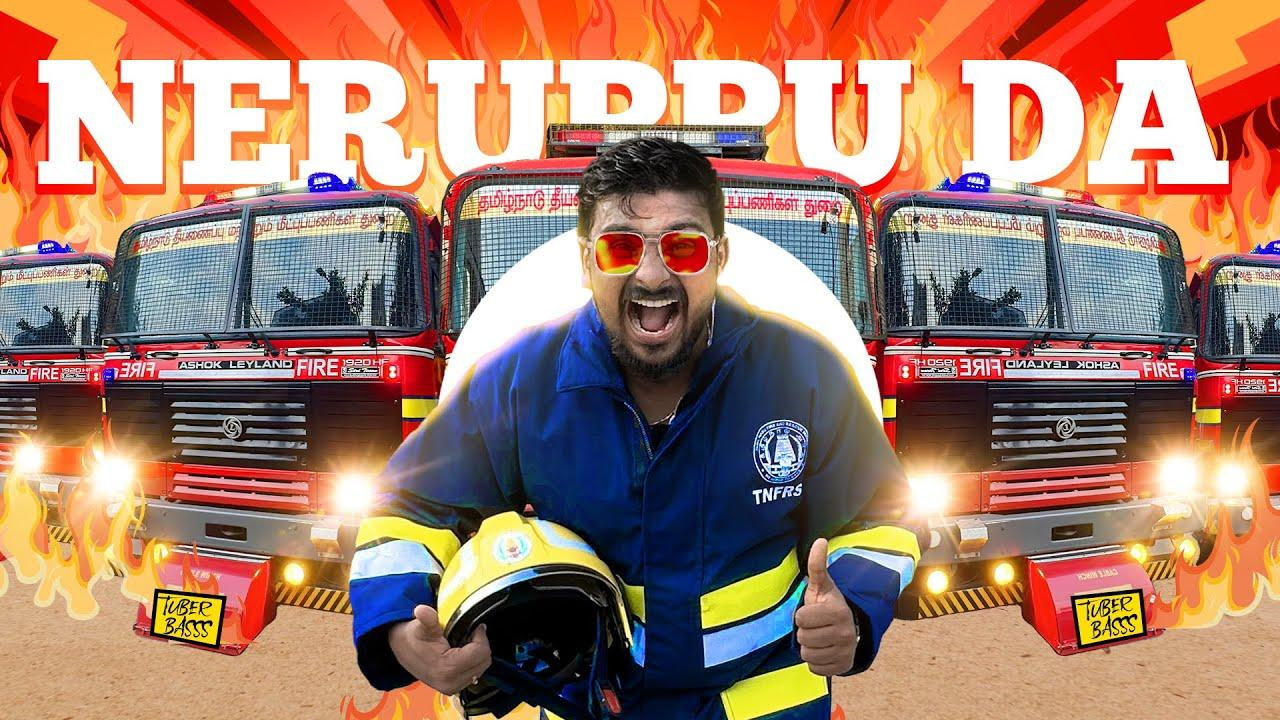Fire-engine: (890, 176, 1198, 629), (113, 219, 421, 607), (0, 239, 110, 533), (1207, 245, 1280, 526)
